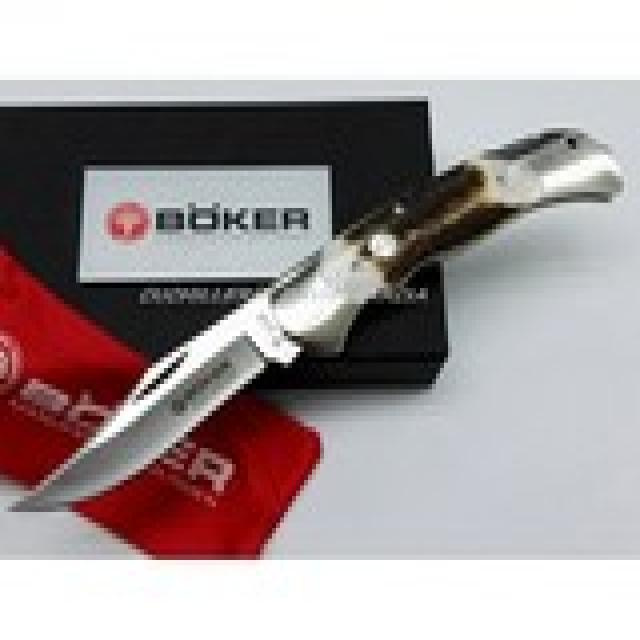Knife: (6, 121, 624, 515)
